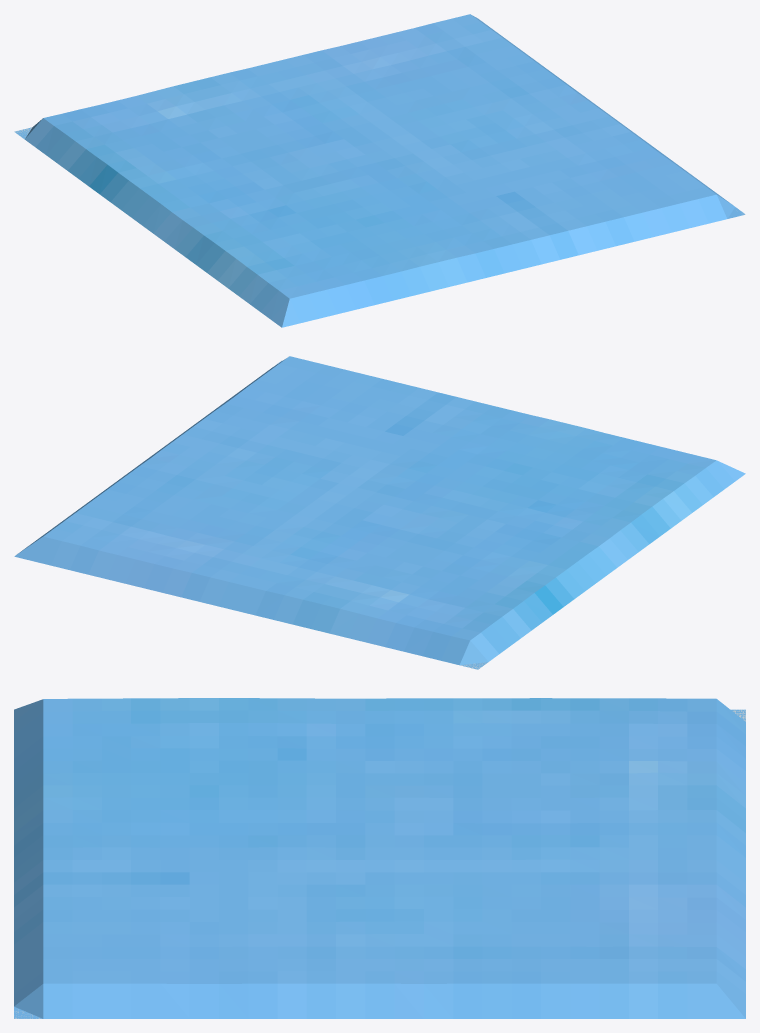
The picture shows the model from 3 angles, top to bottom: view 1: azimuth 30°, elevation 25°; view 2: azimuth 150°, elevation 25°; view 3: azimuth 270°, elevation 25°; orthographic projection. The views are drawn at different scales.
Parts seen in each view (by area): view 1: imagetostl_mesh0; view 2: imagetostl_mesh0; view 3: imagetostl_mesh0.
Part boxes in pixels (<box>): imagetostl_mesh0: <box>14,14,744,327</box>; imagetostl_mesh0: <box>14,356,745,669</box>; imagetostl_mesh0: <box>14,698,745,1018</box>.
Bounding box in the file's own units: 10417 × 376 × 10417.
